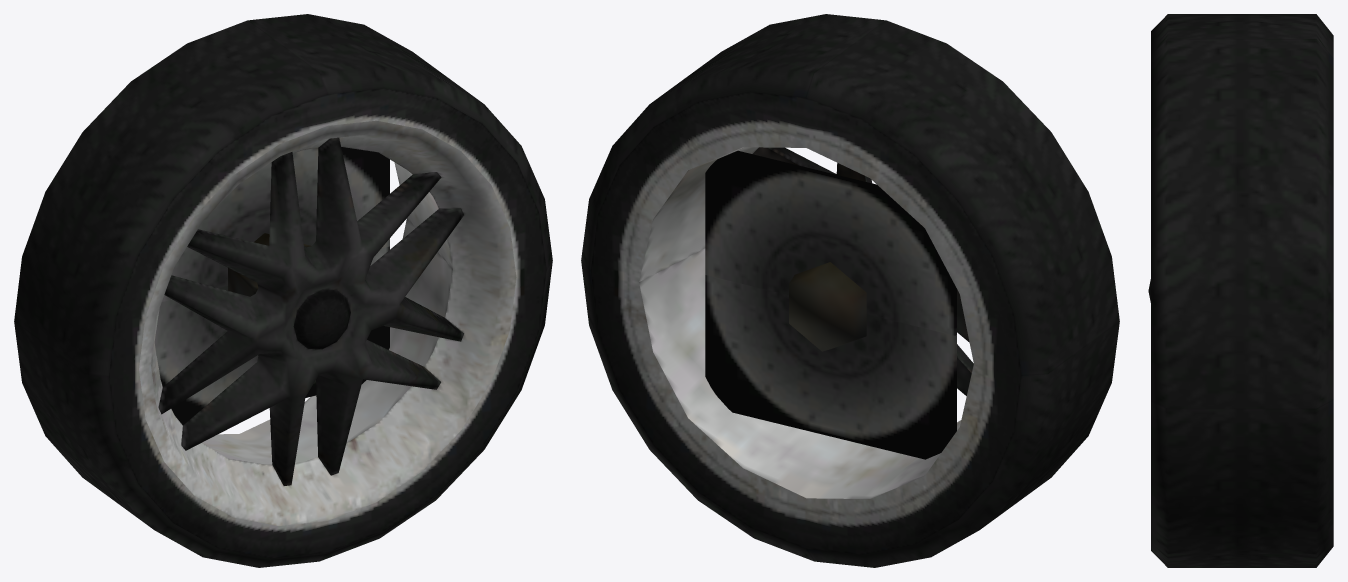
File: V_A_ExoticMuscle_Wheel_2_SkeletalMesh3_SkeletalMesh_2.psk.glb
3 views of the same model, side by side, from view 1: azimuth 30°, elevation 25°; view 2: azimuth 150°, elevation 25°; view 3: azimuth 270°, elevation 25° (orthographic). The views are drawn at different scales.
Bounding box in the file's own units: 72.19 × 72.19 × 24.03.
Materials: 1 (1 with a texture image).
